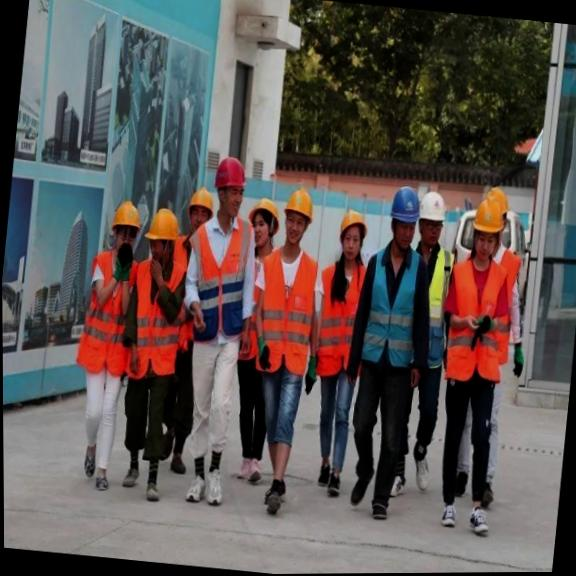safety_vest: (439, 258, 513, 381), (182, 224, 253, 339), (251, 250, 317, 370), (125, 253, 188, 373), (361, 250, 423, 366), (82, 249, 136, 369), (308, 261, 361, 377)
